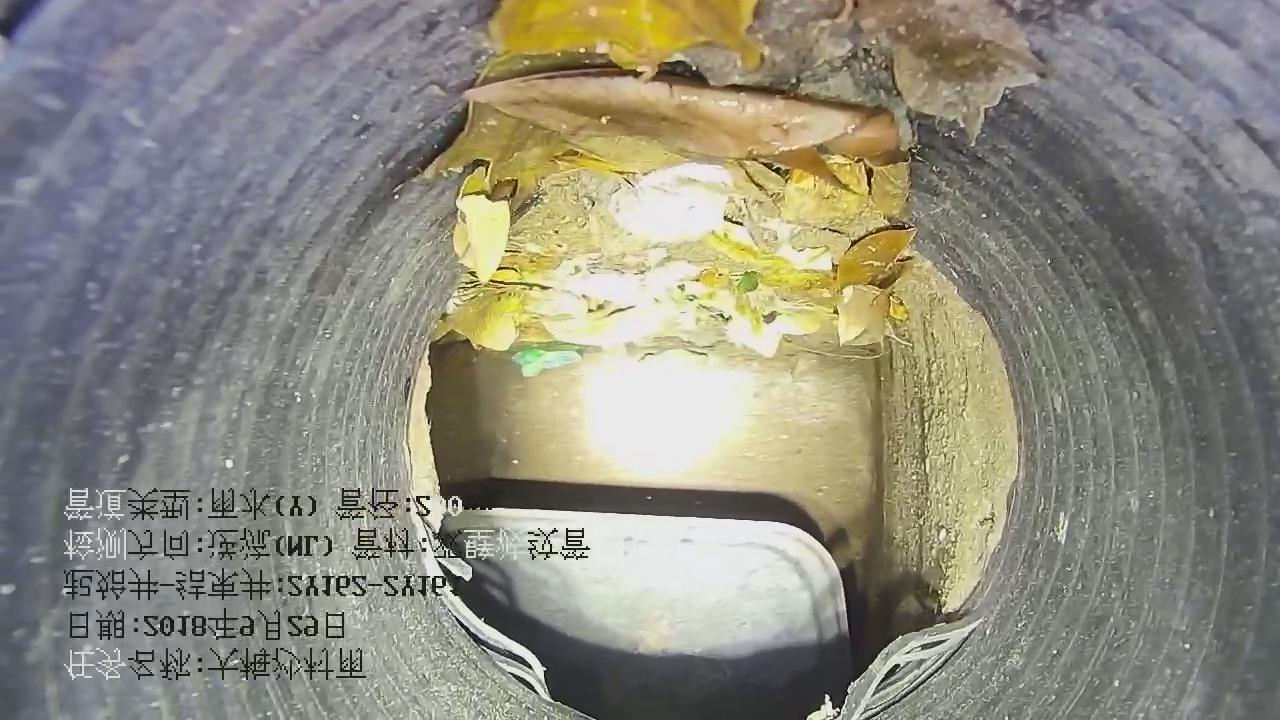CJ: (424, 1, 1038, 372)
JKCL: (408, 358, 558, 702), (805, 616, 982, 720)
YWCR: (436, 510, 850, 720)
